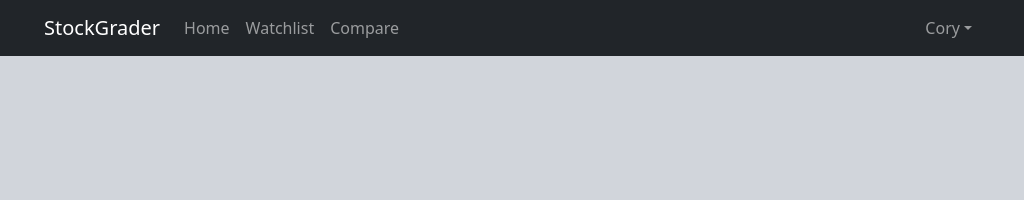
Test: <NavBar /> › puts dark mode, account settings and log out in a menu under the name
The width and height of the screenshot is (1024, 200).
Click the button "Cory" at (949, 28), box top-left (917, 8), bottom-right (980, 48)
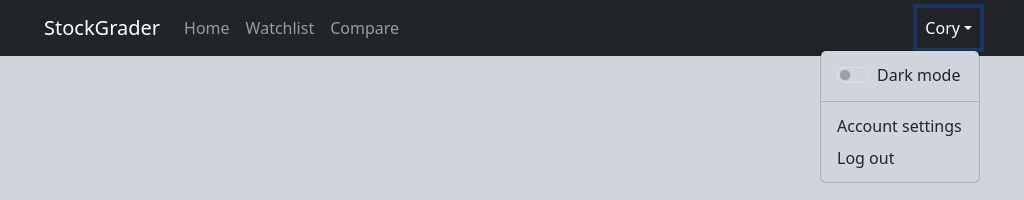
Now the checkbox labelled "Dark mode" is shown, box top-left (837, 67), bottom-right (869, 83)
Now the button "Log out" is shown, box top-left (821, 142), bottom-right (979, 174)
